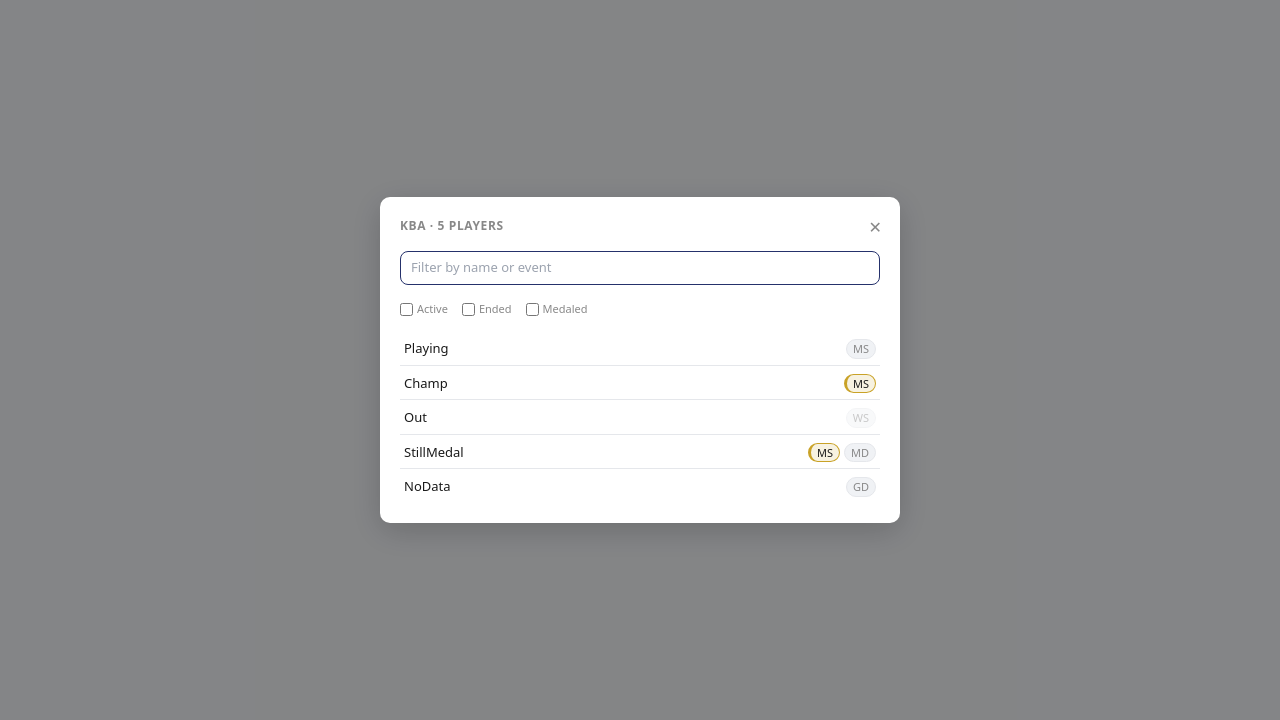
Test case: RosterModal status filters › Active shows players with an ongoing event (medalists still playing count, finished ones do not)
Click the checkbox labelled "Active": (406, 309) top-left (400, 302), bottom-right (413, 316)
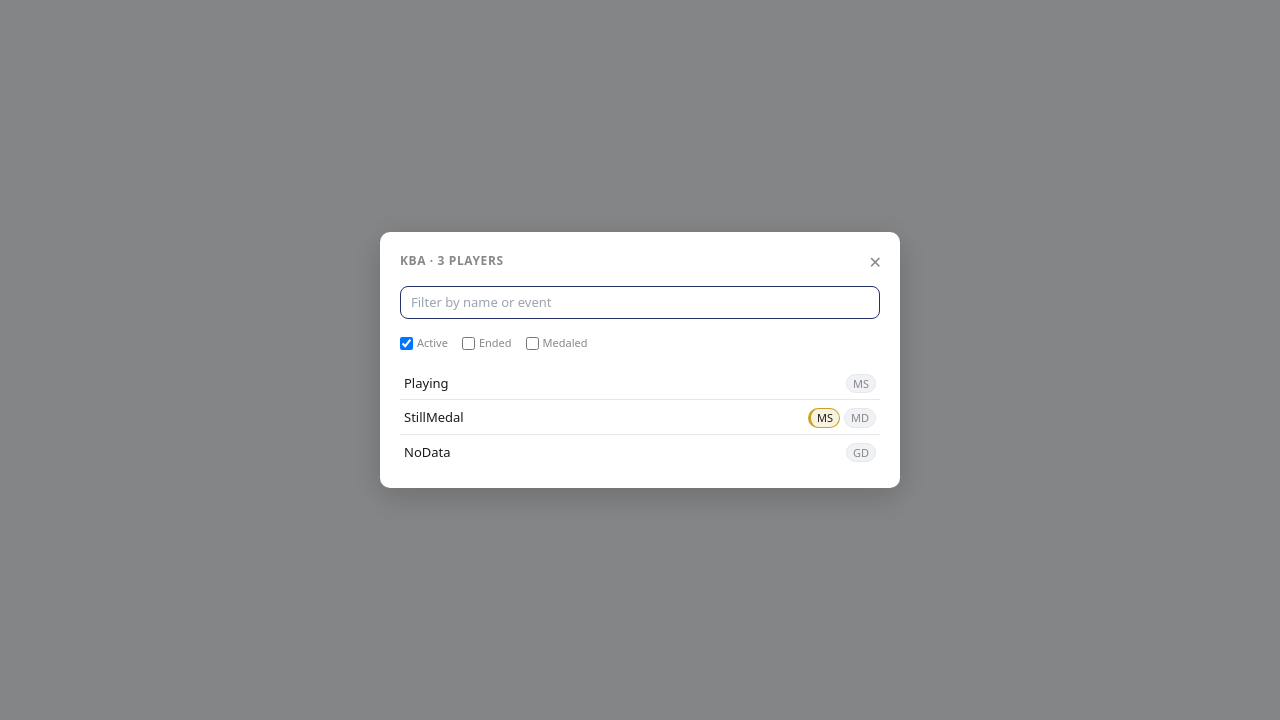
expect the text "KBA · 3 Players" is shown: met, box top-left (400, 252), bottom-right (504, 269)
